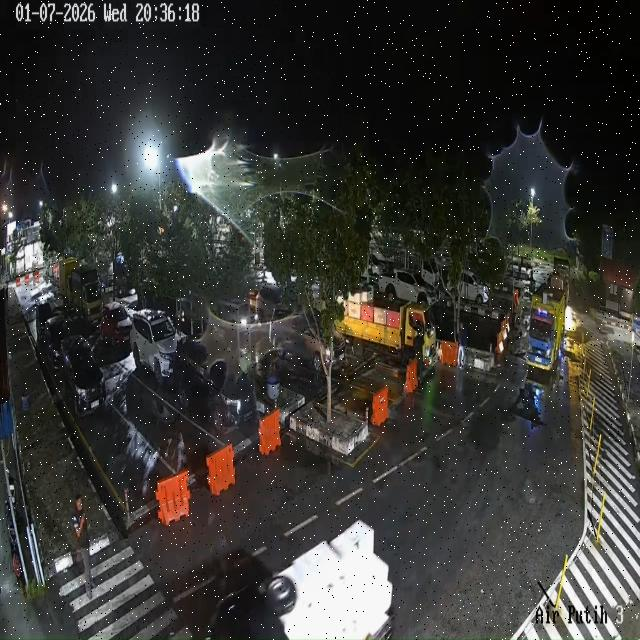Golongan IVA: (174, 339, 257, 433), (272, 315, 346, 374), (60, 335, 106, 418), (130, 308, 180, 384), (41, 316, 70, 370), (100, 301, 132, 346), (36, 301, 54, 343)
Golongan IVB: (378, 270, 438, 306)
Golongan VB: (336, 292, 436, 368), (526, 274, 568, 372), (59, 258, 102, 322)
